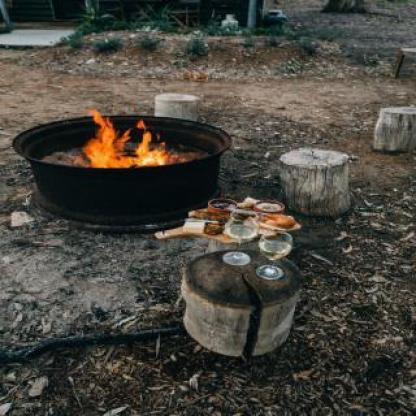fire: (80, 109, 188, 168)
